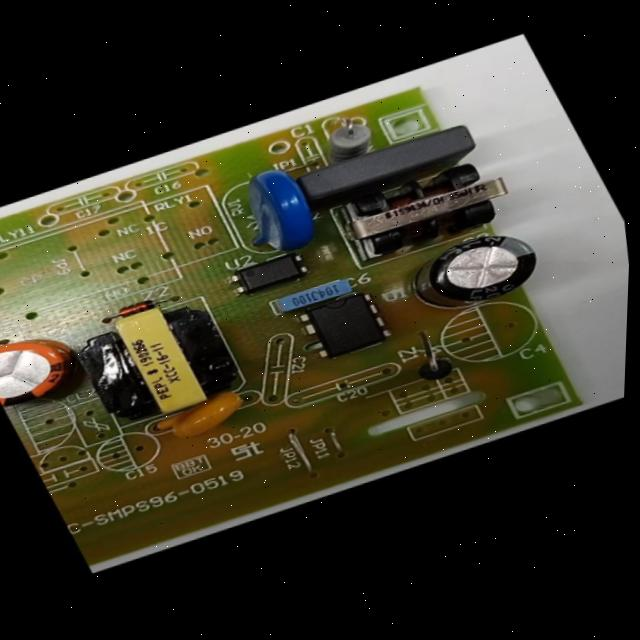Cap1: (0, 324, 86, 413)
Cap3: (390, 215, 561, 325)
MOSFET: (293, 287, 397, 369)
Mov: (227, 156, 335, 262)
Resistor: (314, 112, 383, 166)
Transformer: (61, 284, 256, 437), (337, 150, 524, 263)
